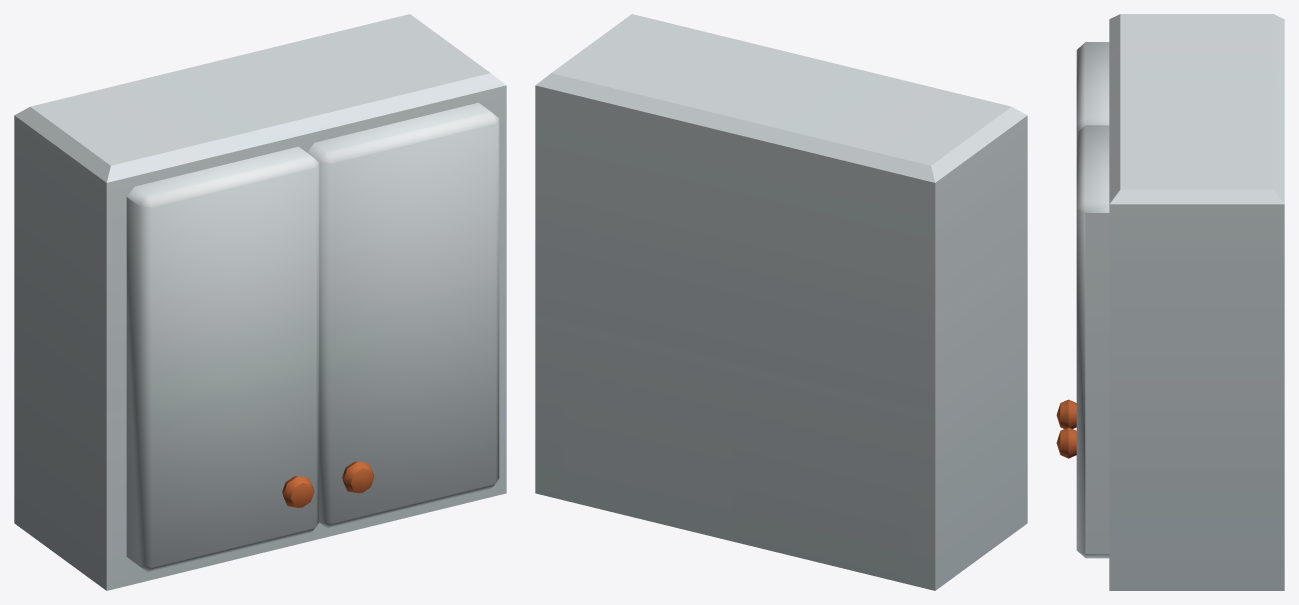
Rendered from kitchencabinet.glb.
The picture shows the model from 3 angles, left to right: view 1: azimuth 30°, elevation 25°; view 2: azimuth 150°, elevation 25°; view 3: azimuth 270°, elevation 25°; orthographic projection. The views are drawn at different scales.
Visible parts, largest first — view 1: kitchencabinet; view 2: kitchencabinet; view 3: kitchencabinet.
Boxes of the visible parts, x1=… form: kitchencabinet: x1=14, y1=14, x2=506, y2=590; kitchencabinet: x1=535, y1=14, x2=1027, y2=590; kitchencabinet: x1=1056, y1=14, x2=1284, y2=590.
Bounding box in the file's own units: 2 × 2 × 1.04.
1 material, 1 textured.
